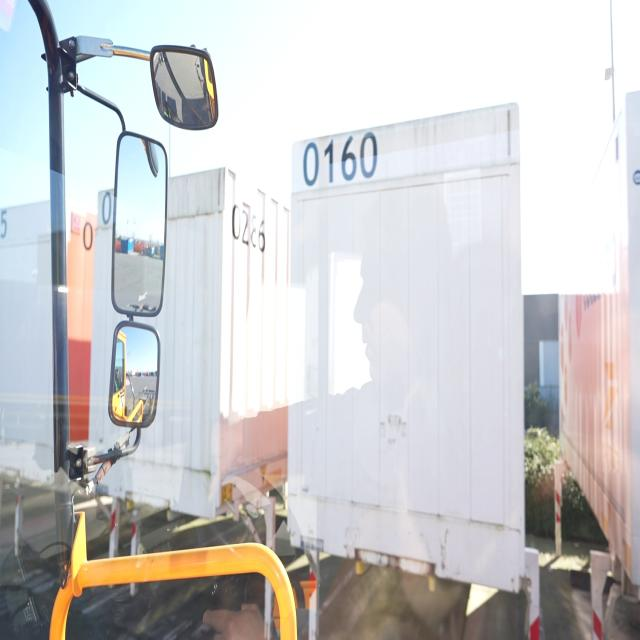Code: (301, 123, 378, 193), (229, 196, 273, 262)
